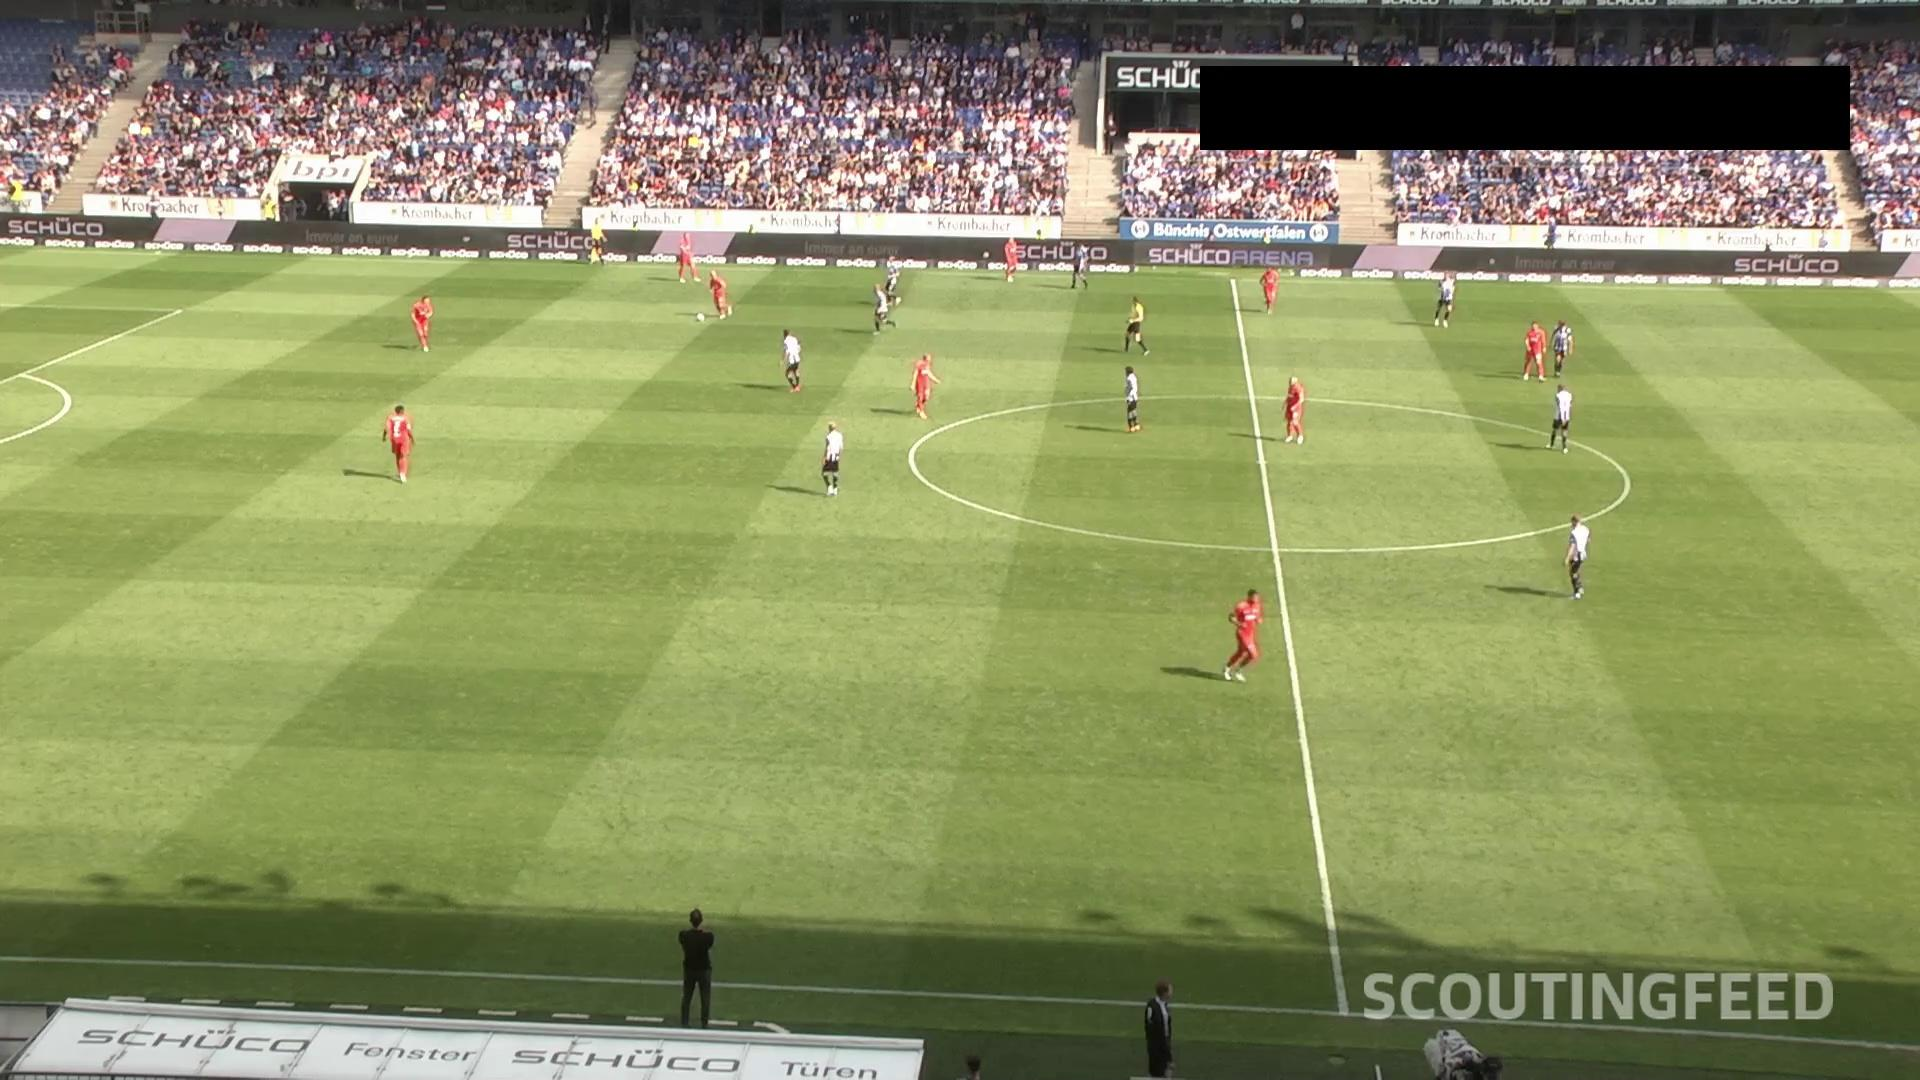Location-of-ball: (687, 303, 707, 334)
